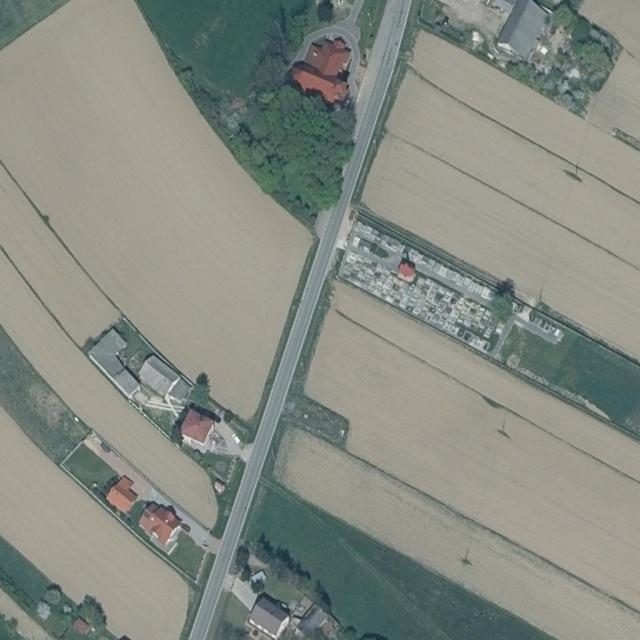agricultural_land: (0, 0, 376, 441), (334, 28, 640, 359), (0, 251, 236, 542), (0, 165, 123, 350), (496, 305, 640, 437), (0, 326, 94, 468)
building: (328, 211, 521, 357), (86, 328, 156, 399), (285, 59, 353, 108), (302, 29, 358, 83), (134, 499, 187, 554), (170, 400, 222, 454), (135, 353, 180, 397), (102, 473, 145, 516), (290, 595, 315, 622), (70, 616, 92, 637)
greenland: (166, 1, 392, 232), (526, 0, 632, 101), (502, 41, 598, 116), (417, 0, 495, 59), (248, 530, 315, 594), (60, 442, 120, 500), (223, 542, 275, 597), (162, 530, 213, 580), (72, 592, 112, 635), (488, 276, 518, 324), (0, 611, 26, 639), (215, 621, 249, 639), (41, 584, 66, 608), (96, 488, 111, 511)
metalled_road: (292, 0, 365, 100)
